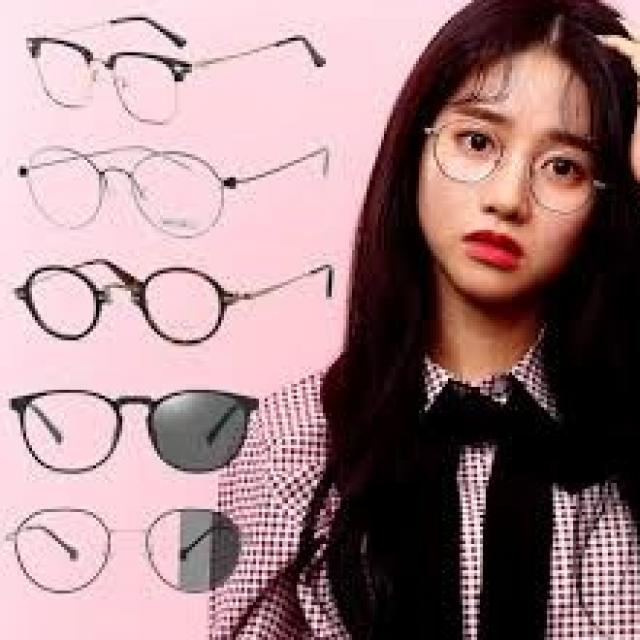Glasses: (15, 9, 343, 128), (6, 250, 343, 361), (12, 131, 340, 244), (3, 381, 265, 483), (0, 503, 262, 605), (410, 111, 617, 221)
